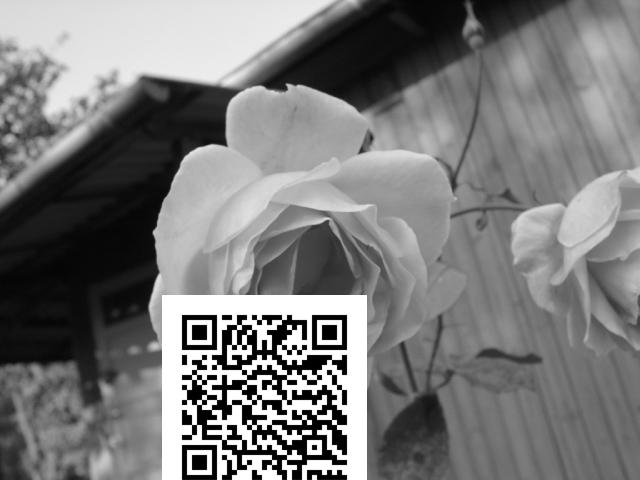qr_code: (163, 294, 367, 480)
